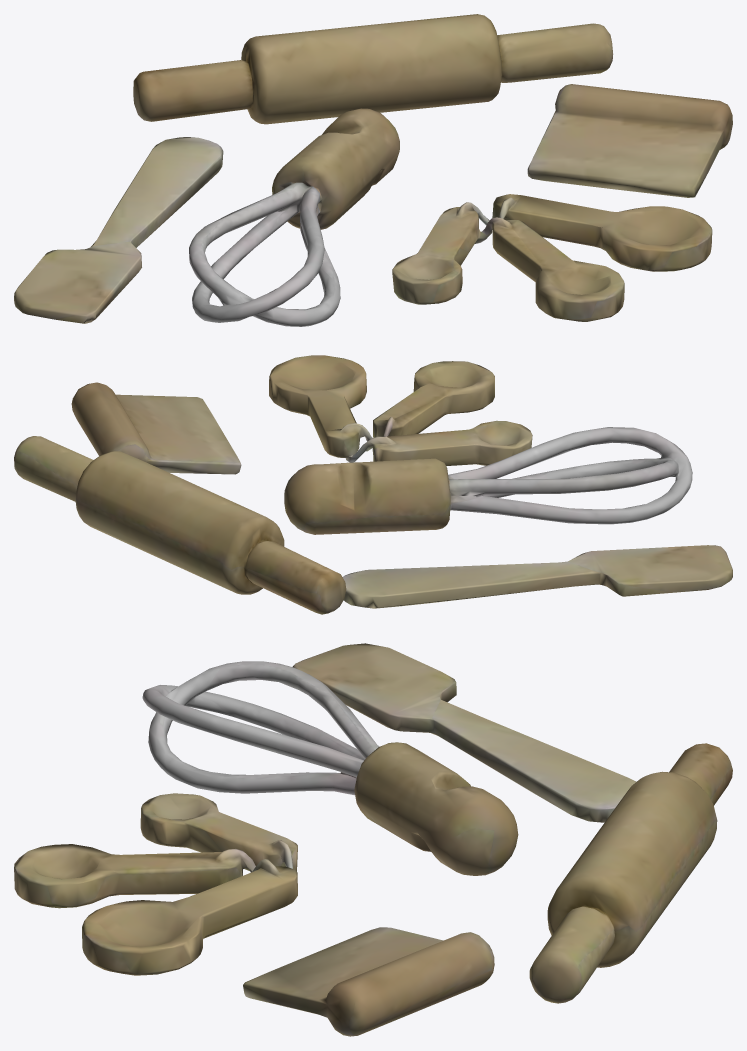
The model's file is BAKING_UTENSILS-high.glb.
3 views of the same model, one above another, from view 1: azimuth 30°, elevation 25°; view 2: azimuth 150°, elevation 25°; view 3: azimuth 270°, elevation 25° (orthographic). The views are drawn at different scales.
Visible parts, largest first — view 1: BAKING_UTENSILS; view 2: BAKING_UTENSILS; view 3: BAKING_UTENSILS.
Part boxes in pixels (x1=…): BAKING_UTENSILS: x1=14, y1=14, x2=732, y2=326; BAKING_UTENSILS: x1=14, y1=355, x2=732, y2=614; BAKING_UTENSILS: x1=14, y1=643, x2=732, y2=1036.
Bounding box in the file's own units: 0.326 × 0.0356 × 0.2543.
1 material, 1 textured.
